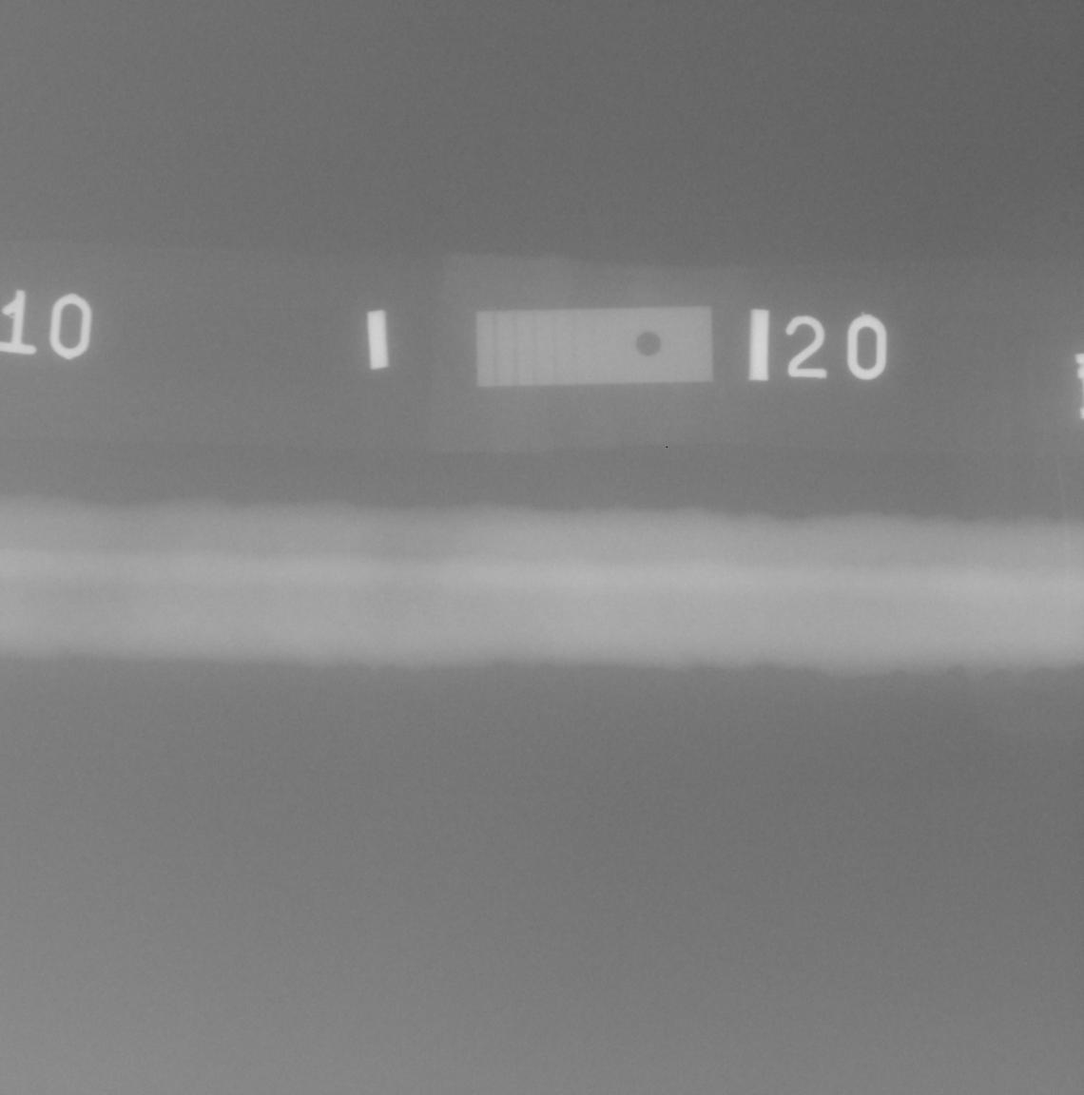Reference Standard 1: (476, 307, 712, 386)
